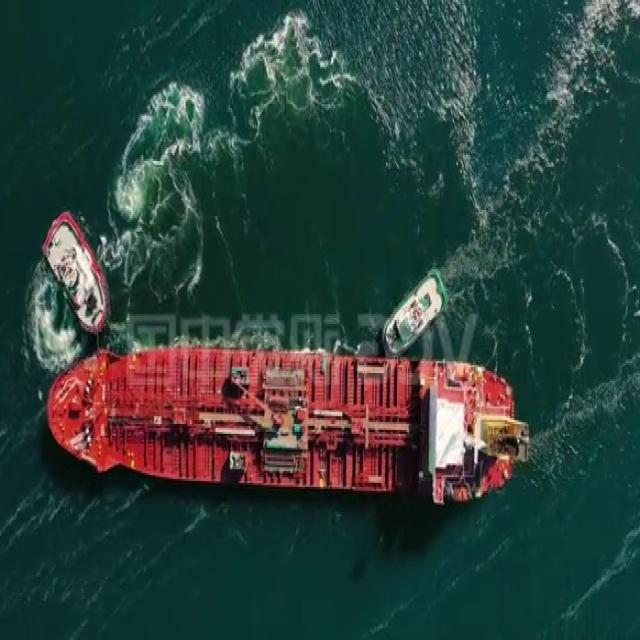cargoship: (49, 344, 530, 500)
houseboat: (42, 212, 110, 324), (380, 260, 447, 357)
